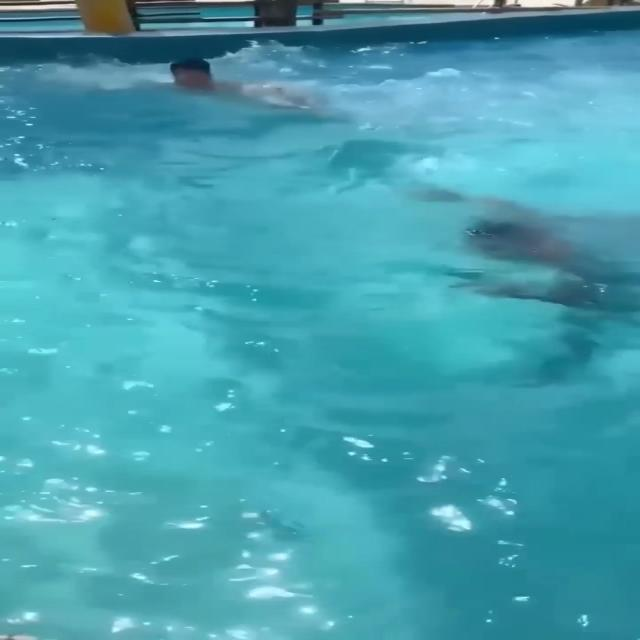Drowning: (419, 184, 640, 328)
Swimming: (156, 57, 352, 115)
